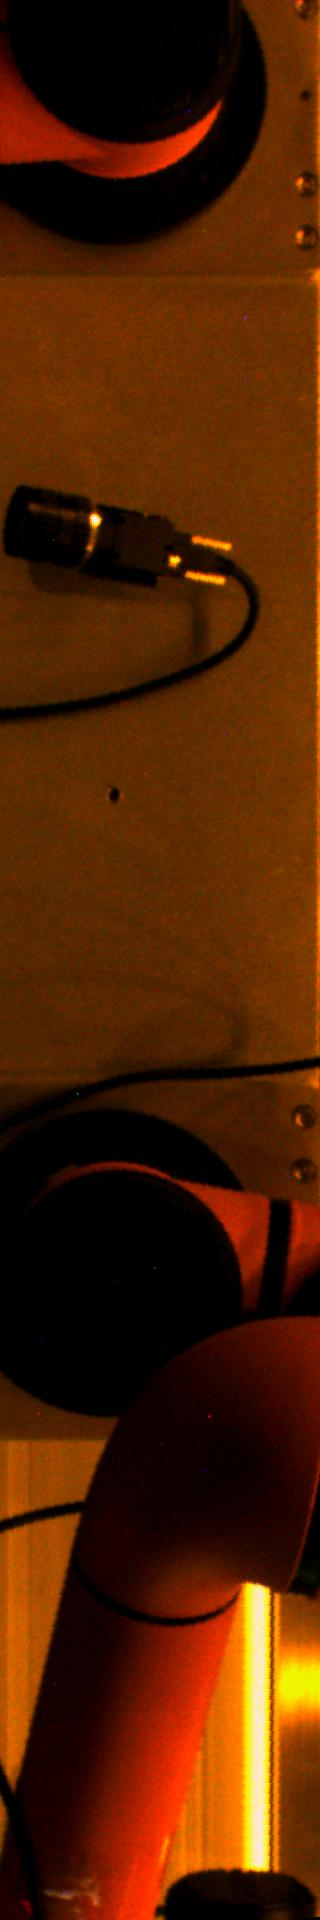keyPoint_2: (98, 781, 128, 811)
